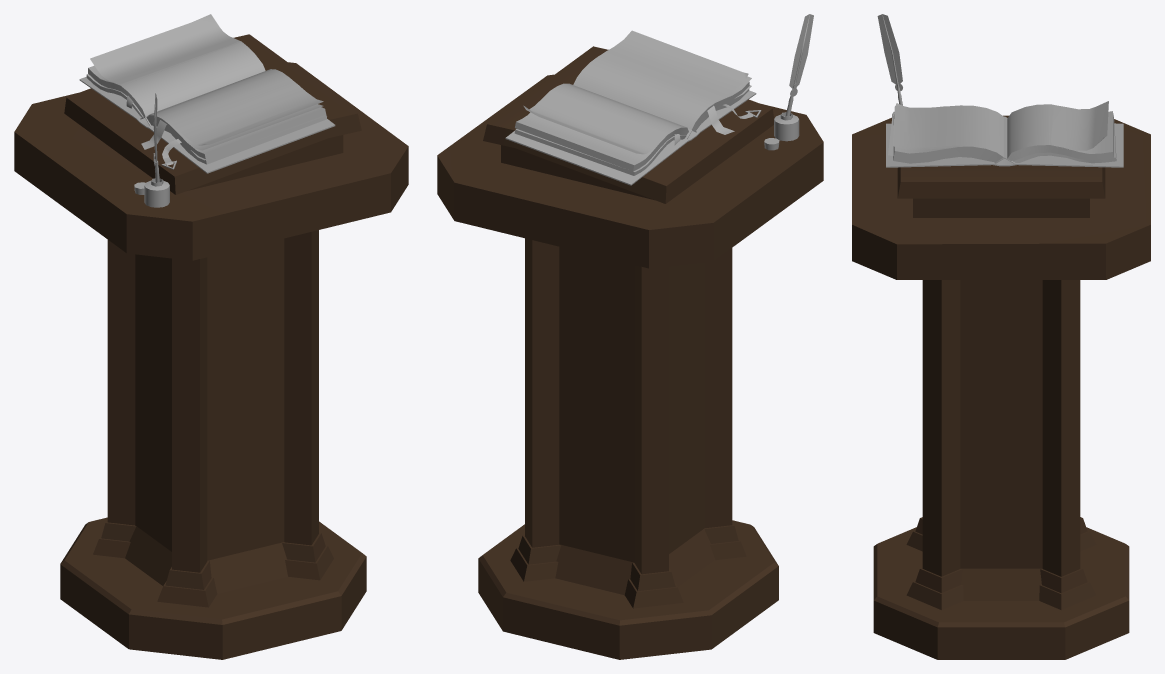
File: alchemical book.fbx
The picture shows the model from 3 angles, left to right: view 1: azimuth 30°, elevation 25°; view 2: azimuth 150°, elevation 25°; view 3: azimuth 270°, elevation 25°; orthographic projection. The views are drawn at different scales.
Visible parts, largest first — view 1: PulpitFrame, Pilpit, Paper, Stack, Book, Reverse_Paper, ink; view 2: PulpitFrame, Pilpit, Paper, Stack, Book, ink, Reverse_Paper; view 3: PulpitFrame, Pilpit, Paper, Stack, Book, ink, Reverse_Paper.
Boxes of the visible parts, x1,y1,x2,y2 form: PulpitFrame: [14, 34, 408, 659]; Pilpit: [125, 238, 287, 593]; Paper: [90, 14, 326, 159]; Stack: [86, 41, 326, 164]; Book: [79, 76, 335, 173]; Reverse_Paper: [90, 59, 325, 160]; ink: [134, 93, 169, 207]; PulpitFrame: [437, 46, 823, 659]; Pilpit: [555, 246, 714, 595]; Paper: [523, 30, 751, 153]; Stack: [514, 81, 749, 175]; Book: [505, 90, 756, 185]; ink: [764, 14, 813, 150]; Reverse_Paper: [523, 49, 751, 154]; PulpitFrame: [852, 115, 1150, 659]; Pilpit: [960, 280, 1042, 600]; Paper: [888, 101, 1108, 156]; Stack: [893, 104, 1116, 163]; Book: [886, 116, 1123, 167]; ink: [877, 14, 902, 117]; Reverse_Paper: [888, 103, 1108, 155].
Bounding box in the file's own units: 1.61 × 3.14 × 1.59.
